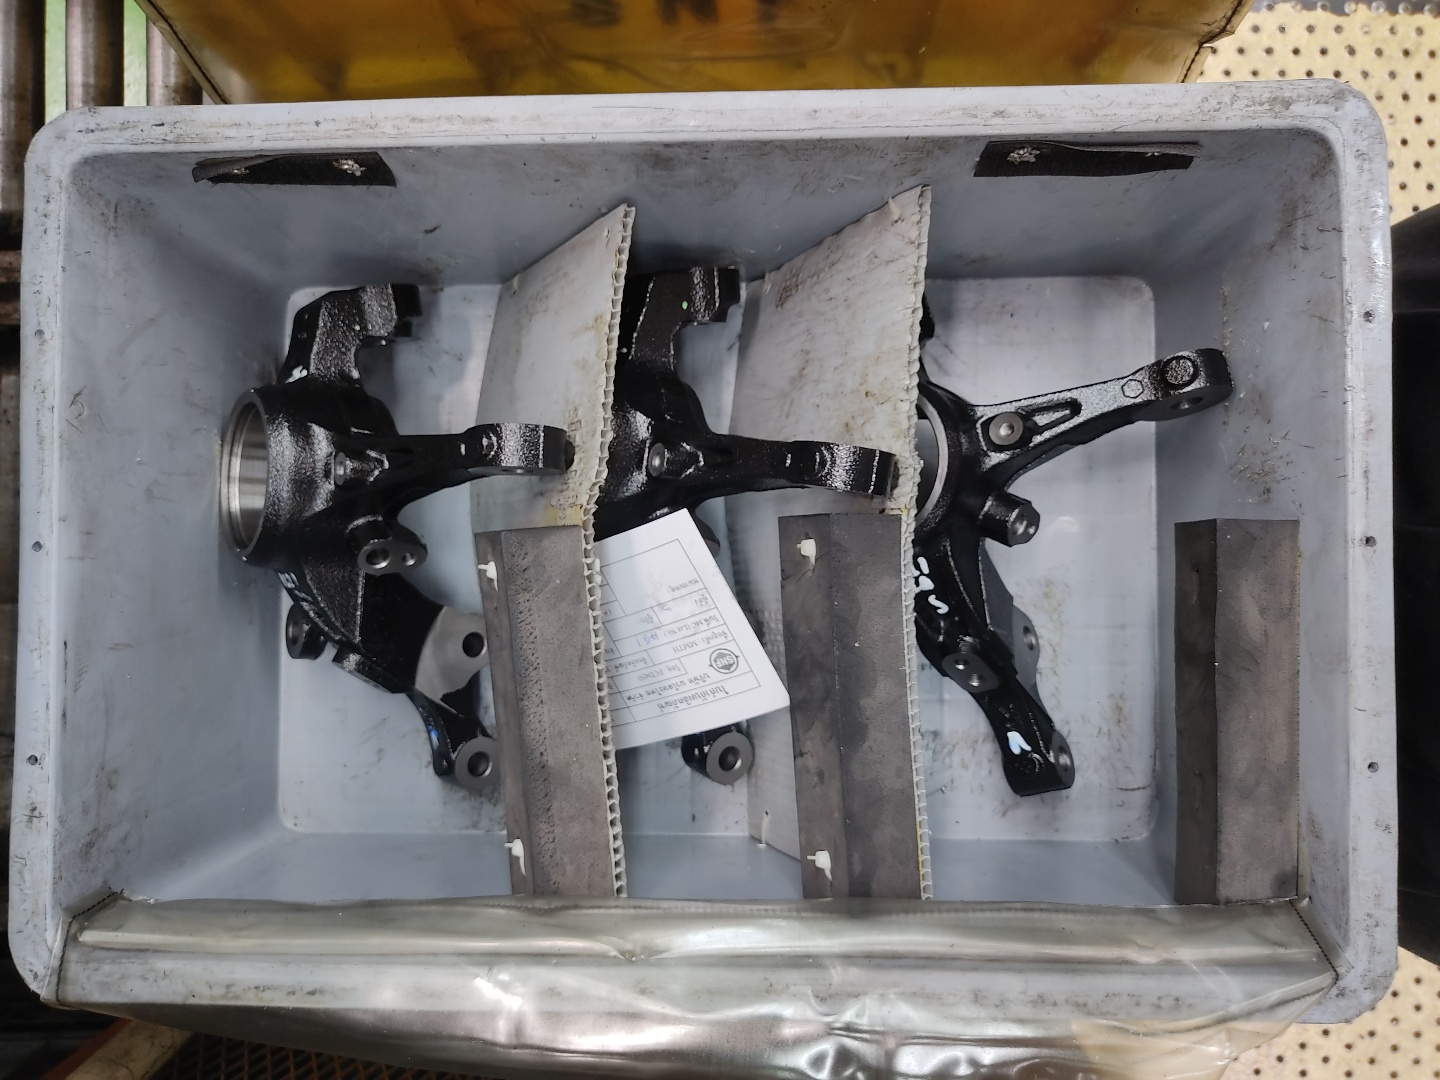abs-rh: (207, 273, 579, 813), (903, 265, 1237, 810), (599, 255, 903, 811)
